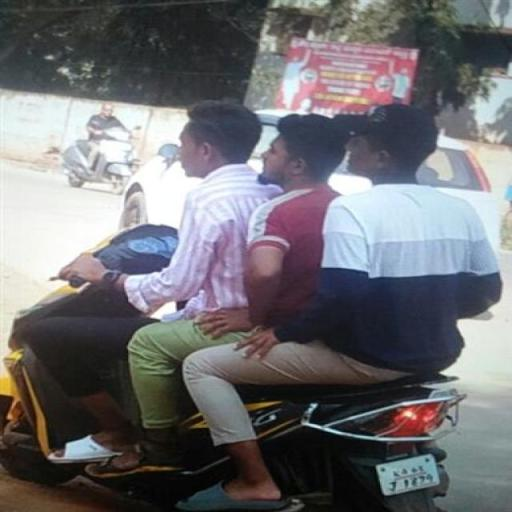tripple riding: (52, 94, 502, 360)
